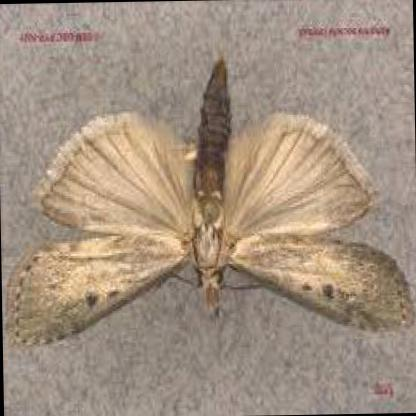Leaf Webber: (6, 50, 415, 353)
